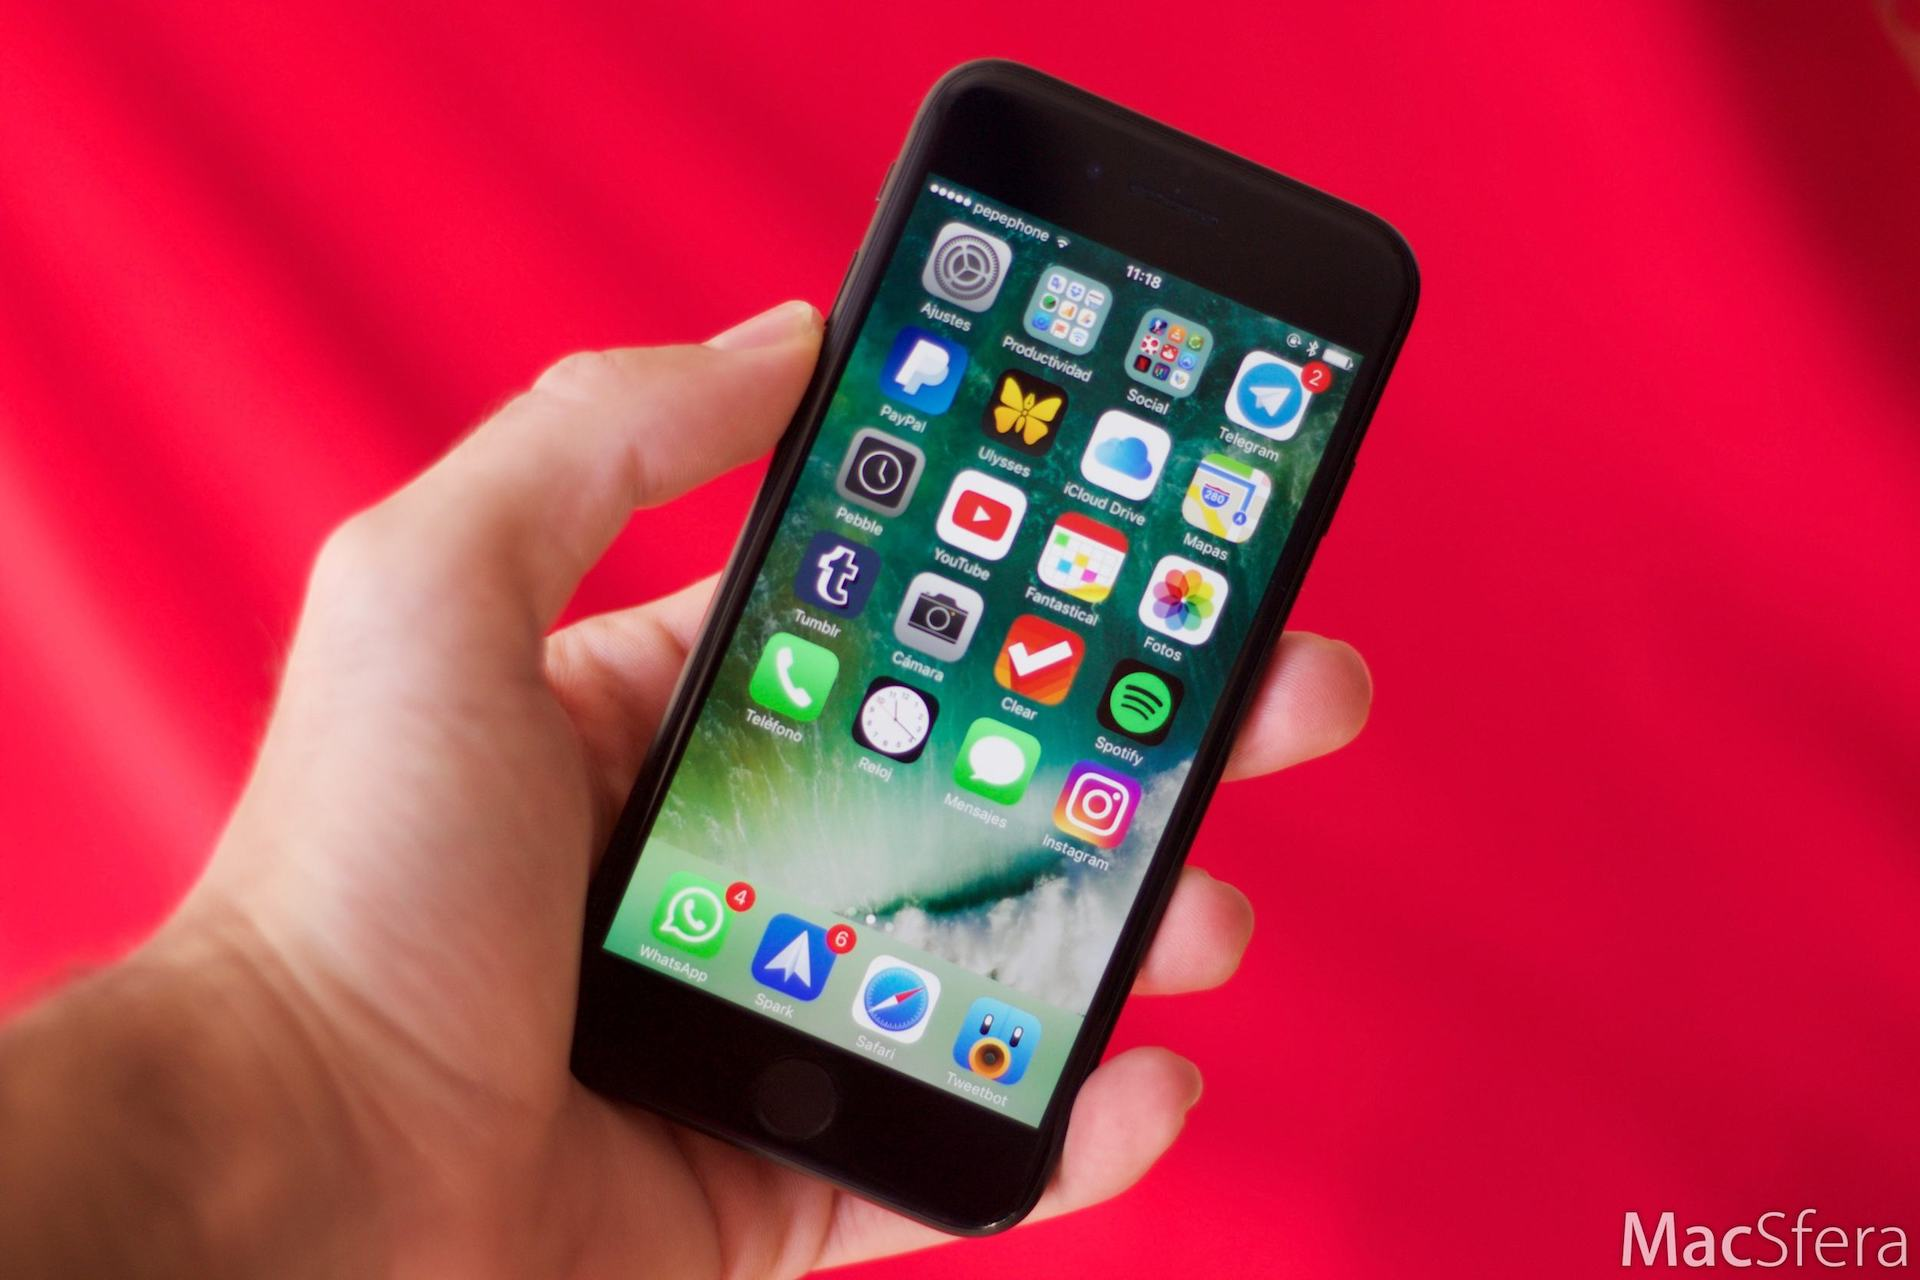smartphone: (569, 59, 1424, 1241)
